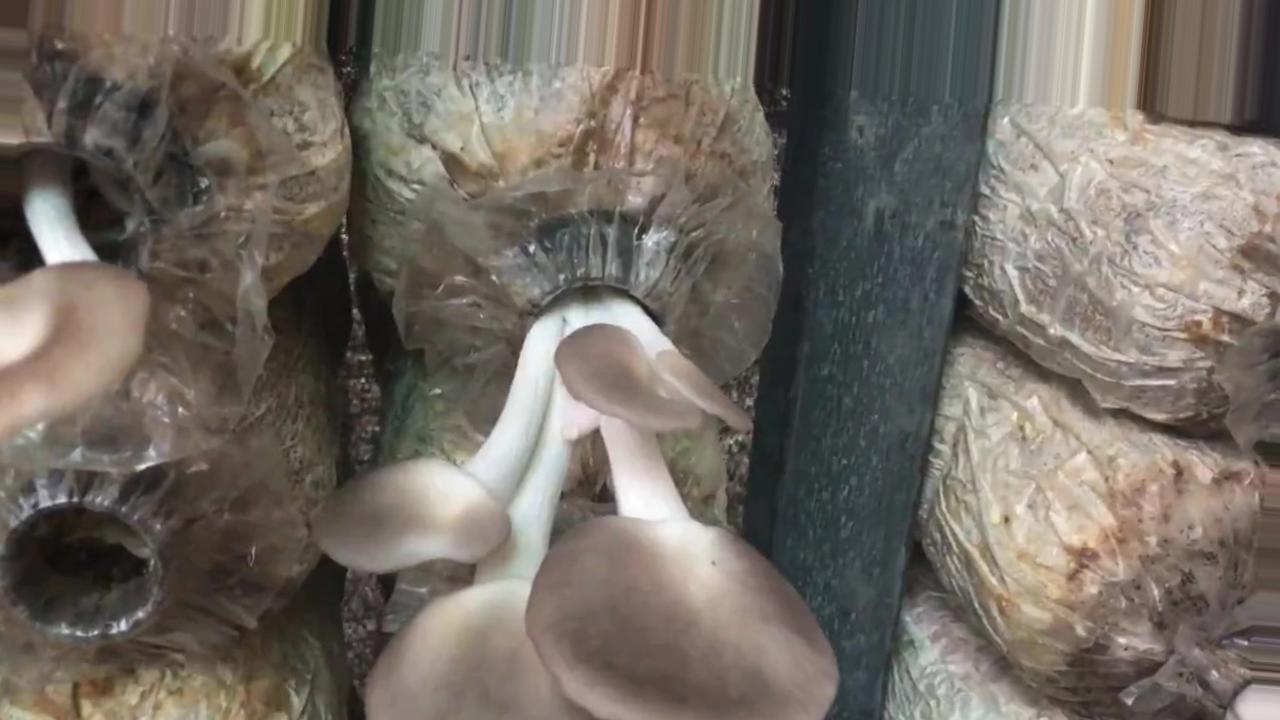nam: (315, 235, 839, 720), (1, 103, 148, 426)
